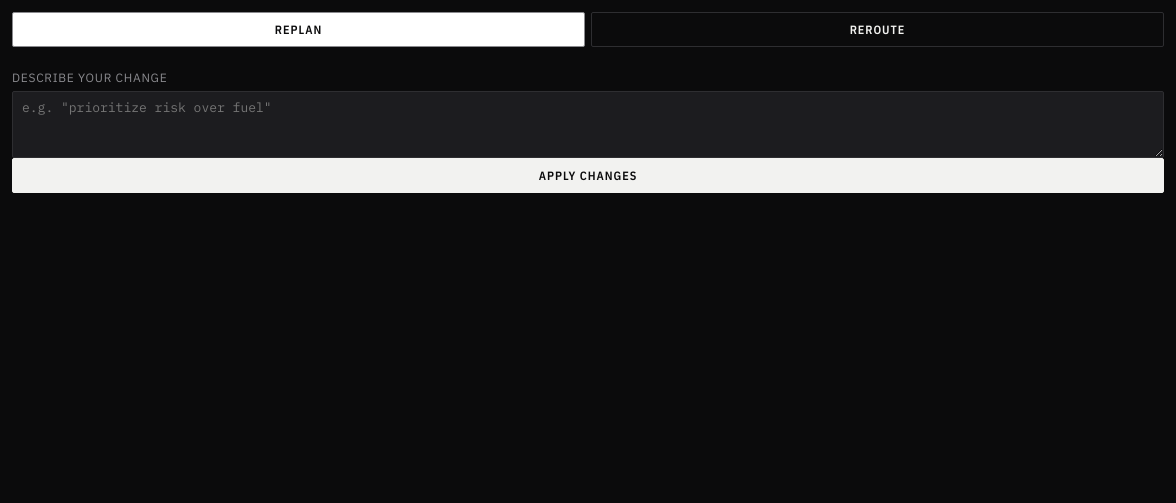
Test: 1) Fuel prefill math › Match-button click on Alpha prefills ceiling minus step_breakdown[0].delta_v_km_s
This screenshot has width=1176, height=503.
Click the button "Reroute" at (878, 30), box [591,12,1164,47]
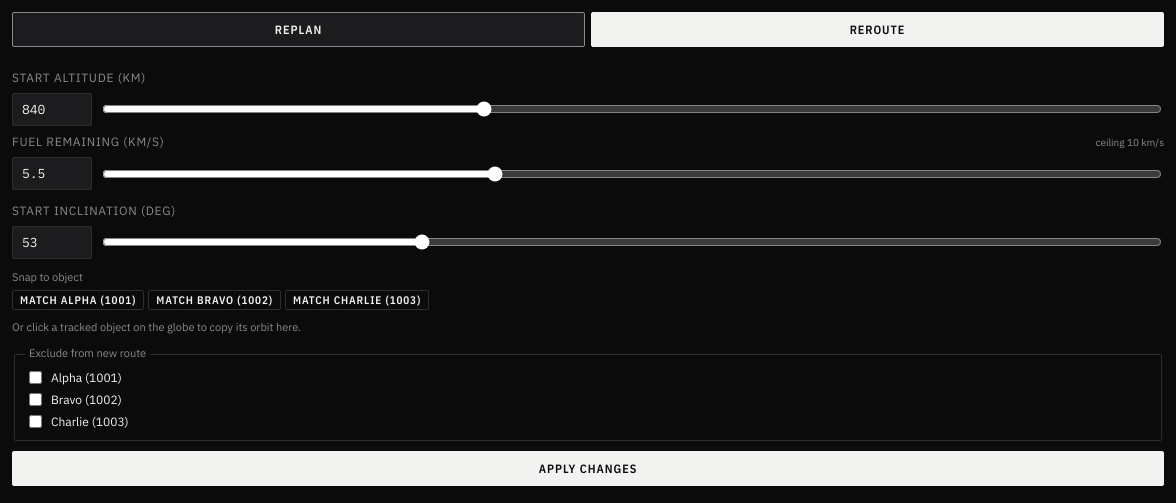
Click the button "Match Alpha (1001)" at (78, 300), box [12,290,144,310]
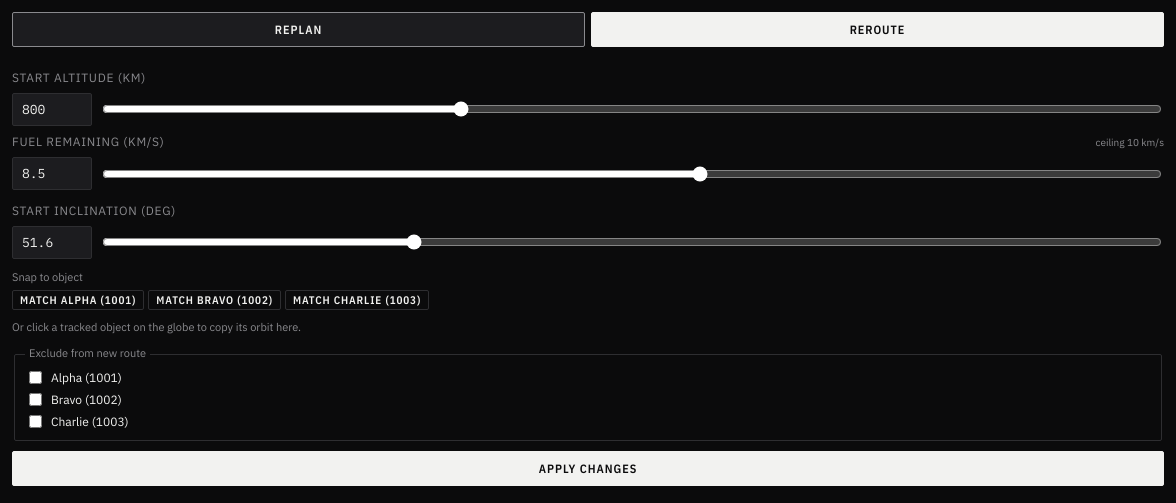
Now the number field labelled "Fuel remaining (km/s) ceiling 10 km/s" holds "8.5", box [12,157,92,190]
